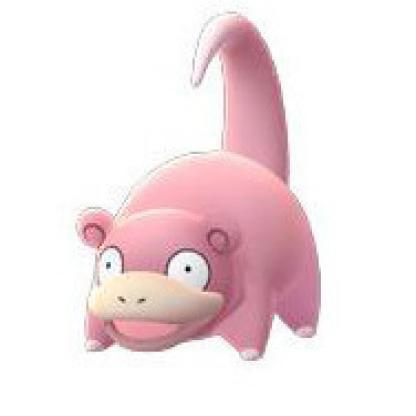Slowpoke: (62, 8, 334, 362)
